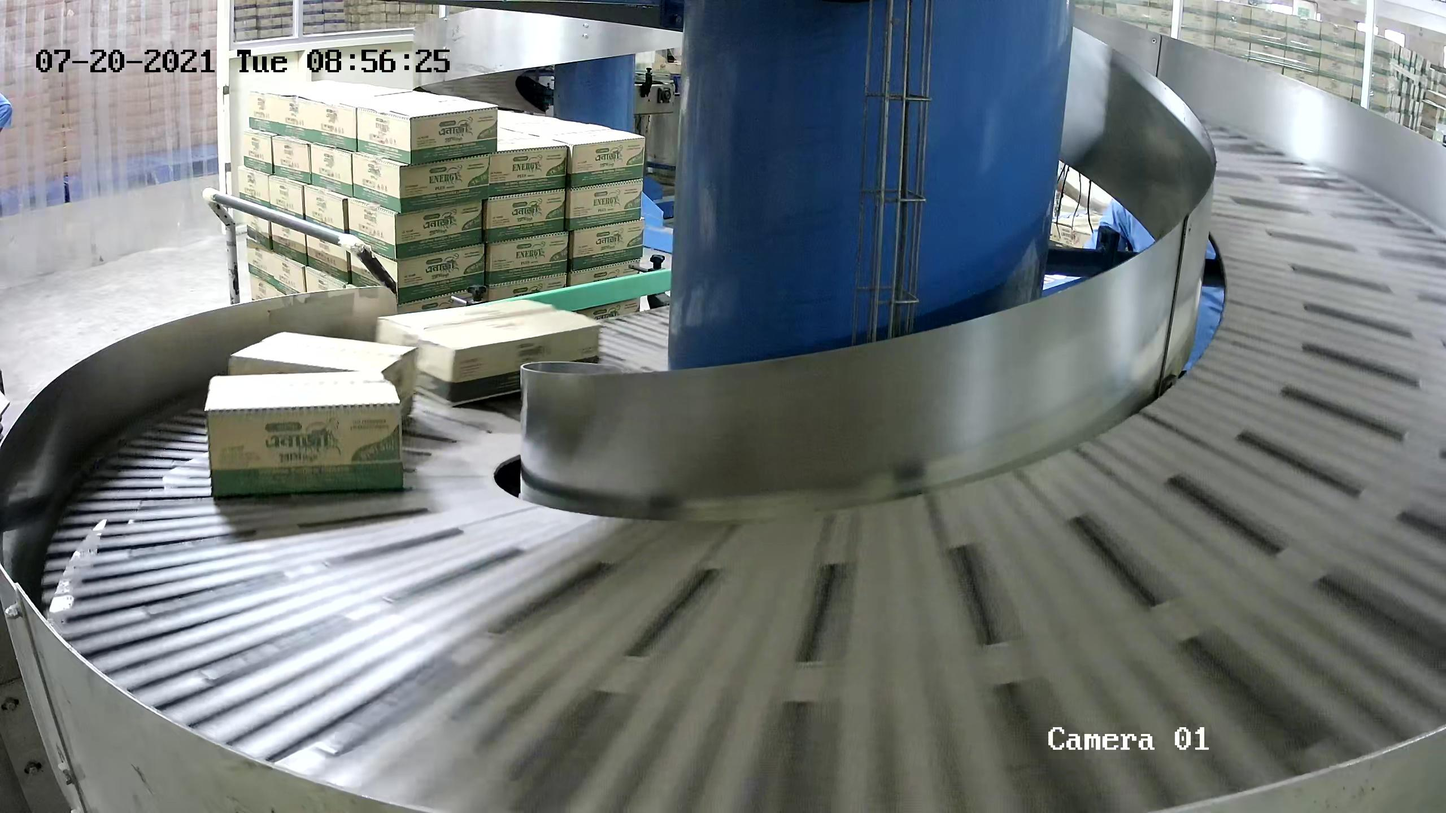Box: (202, 368, 405, 497), (374, 298, 600, 408), (226, 330, 415, 424)
